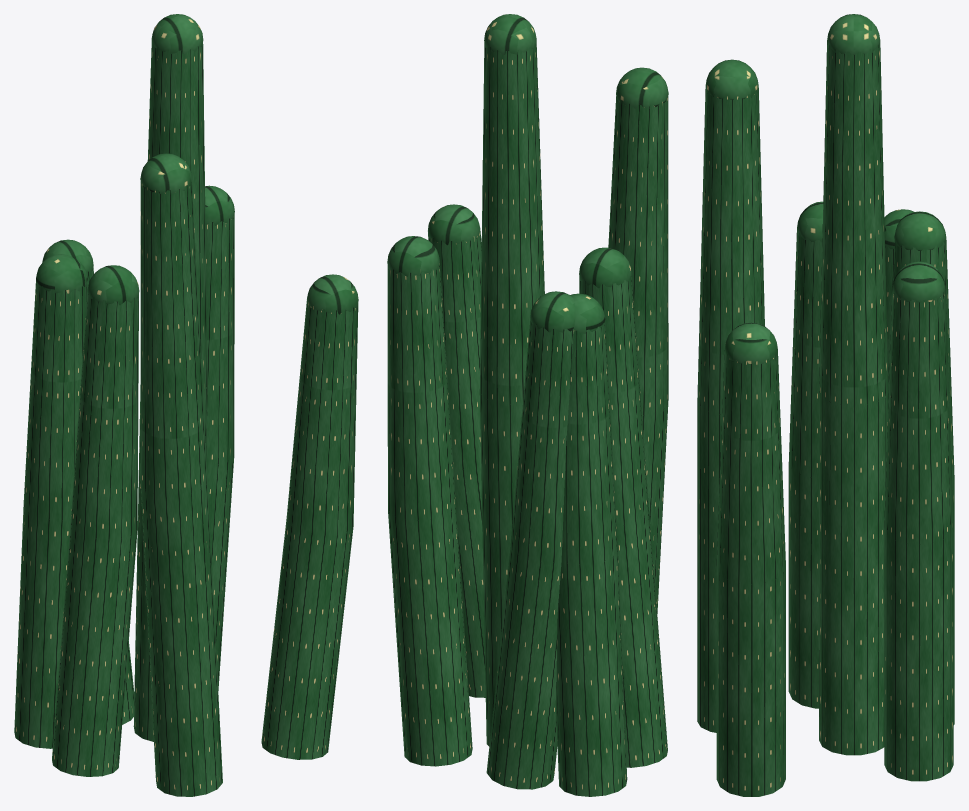
The model's file is Organo.obj.
3 views of the same model, side by side, from view 1: azimuth 30°, elevation 25°; view 2: azimuth 150°, elevation 25°; view 3: azimuth 270°, elevation 25° (orthographic). The views are drawn at different scales.
Visible parts, largest first — view 1: Organo; view 2: Organo; view 3: Organo.
Boxes of the visible parts, x1,y1,x2,y2 form: Organo: (14, 14, 358, 796); Organo: (387, 14, 668, 796); Organo: (697, 14, 954, 796).
Size of the model in its own units: 1.52 by 3.95 by 1.26.
1 material, 1 textured.
